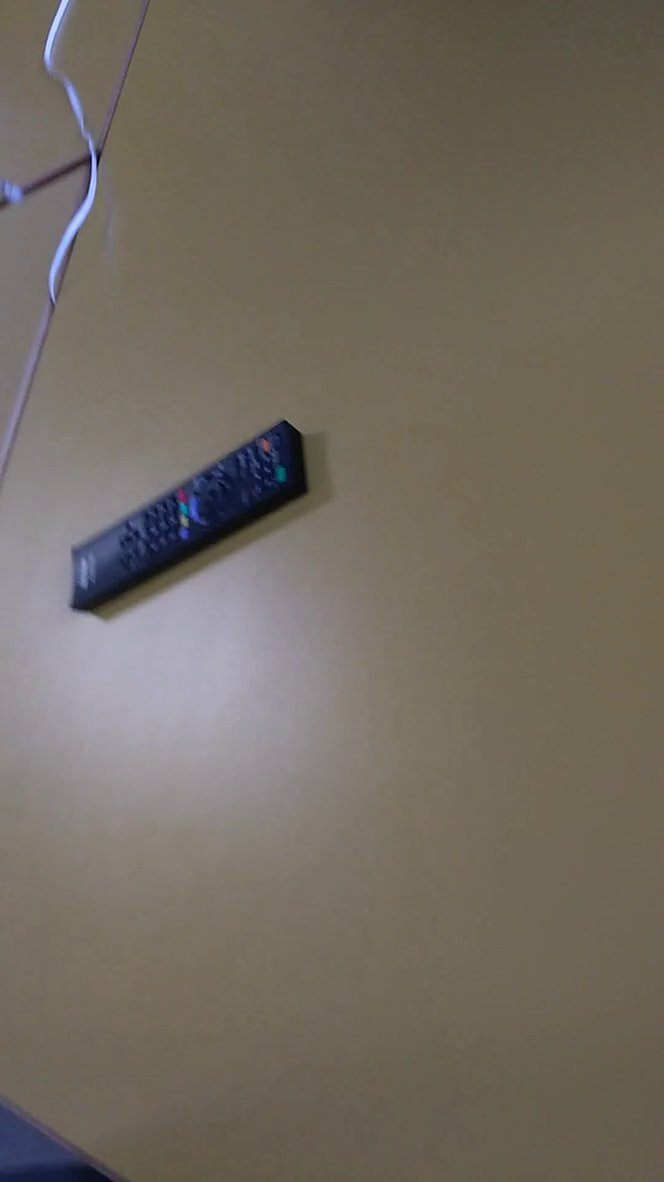remote: (63, 407, 319, 636)
